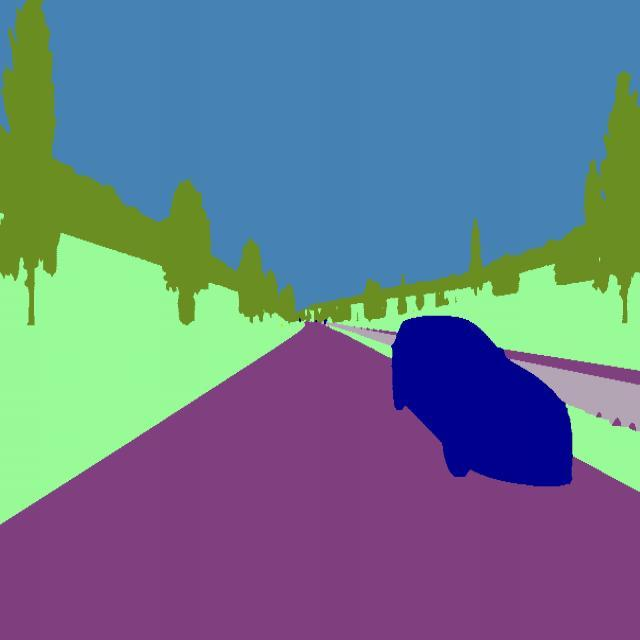unsafe: (389, 306, 578, 501)
